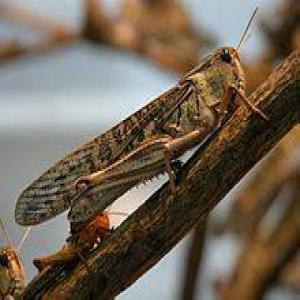locust: (13, 34, 249, 230)
